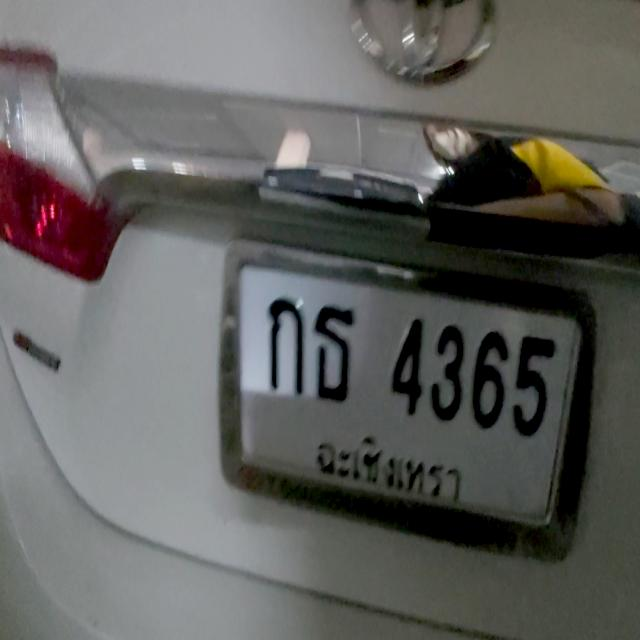license_plate: (240, 263, 581, 532)
